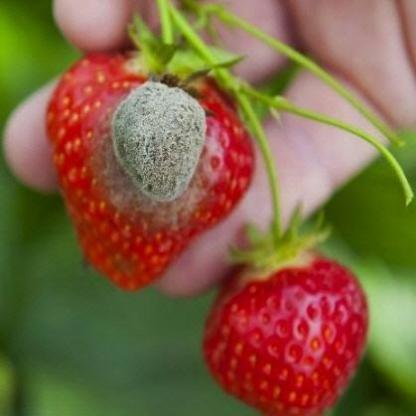Strawberry_Gray_Mold: (84, 70, 224, 232)
